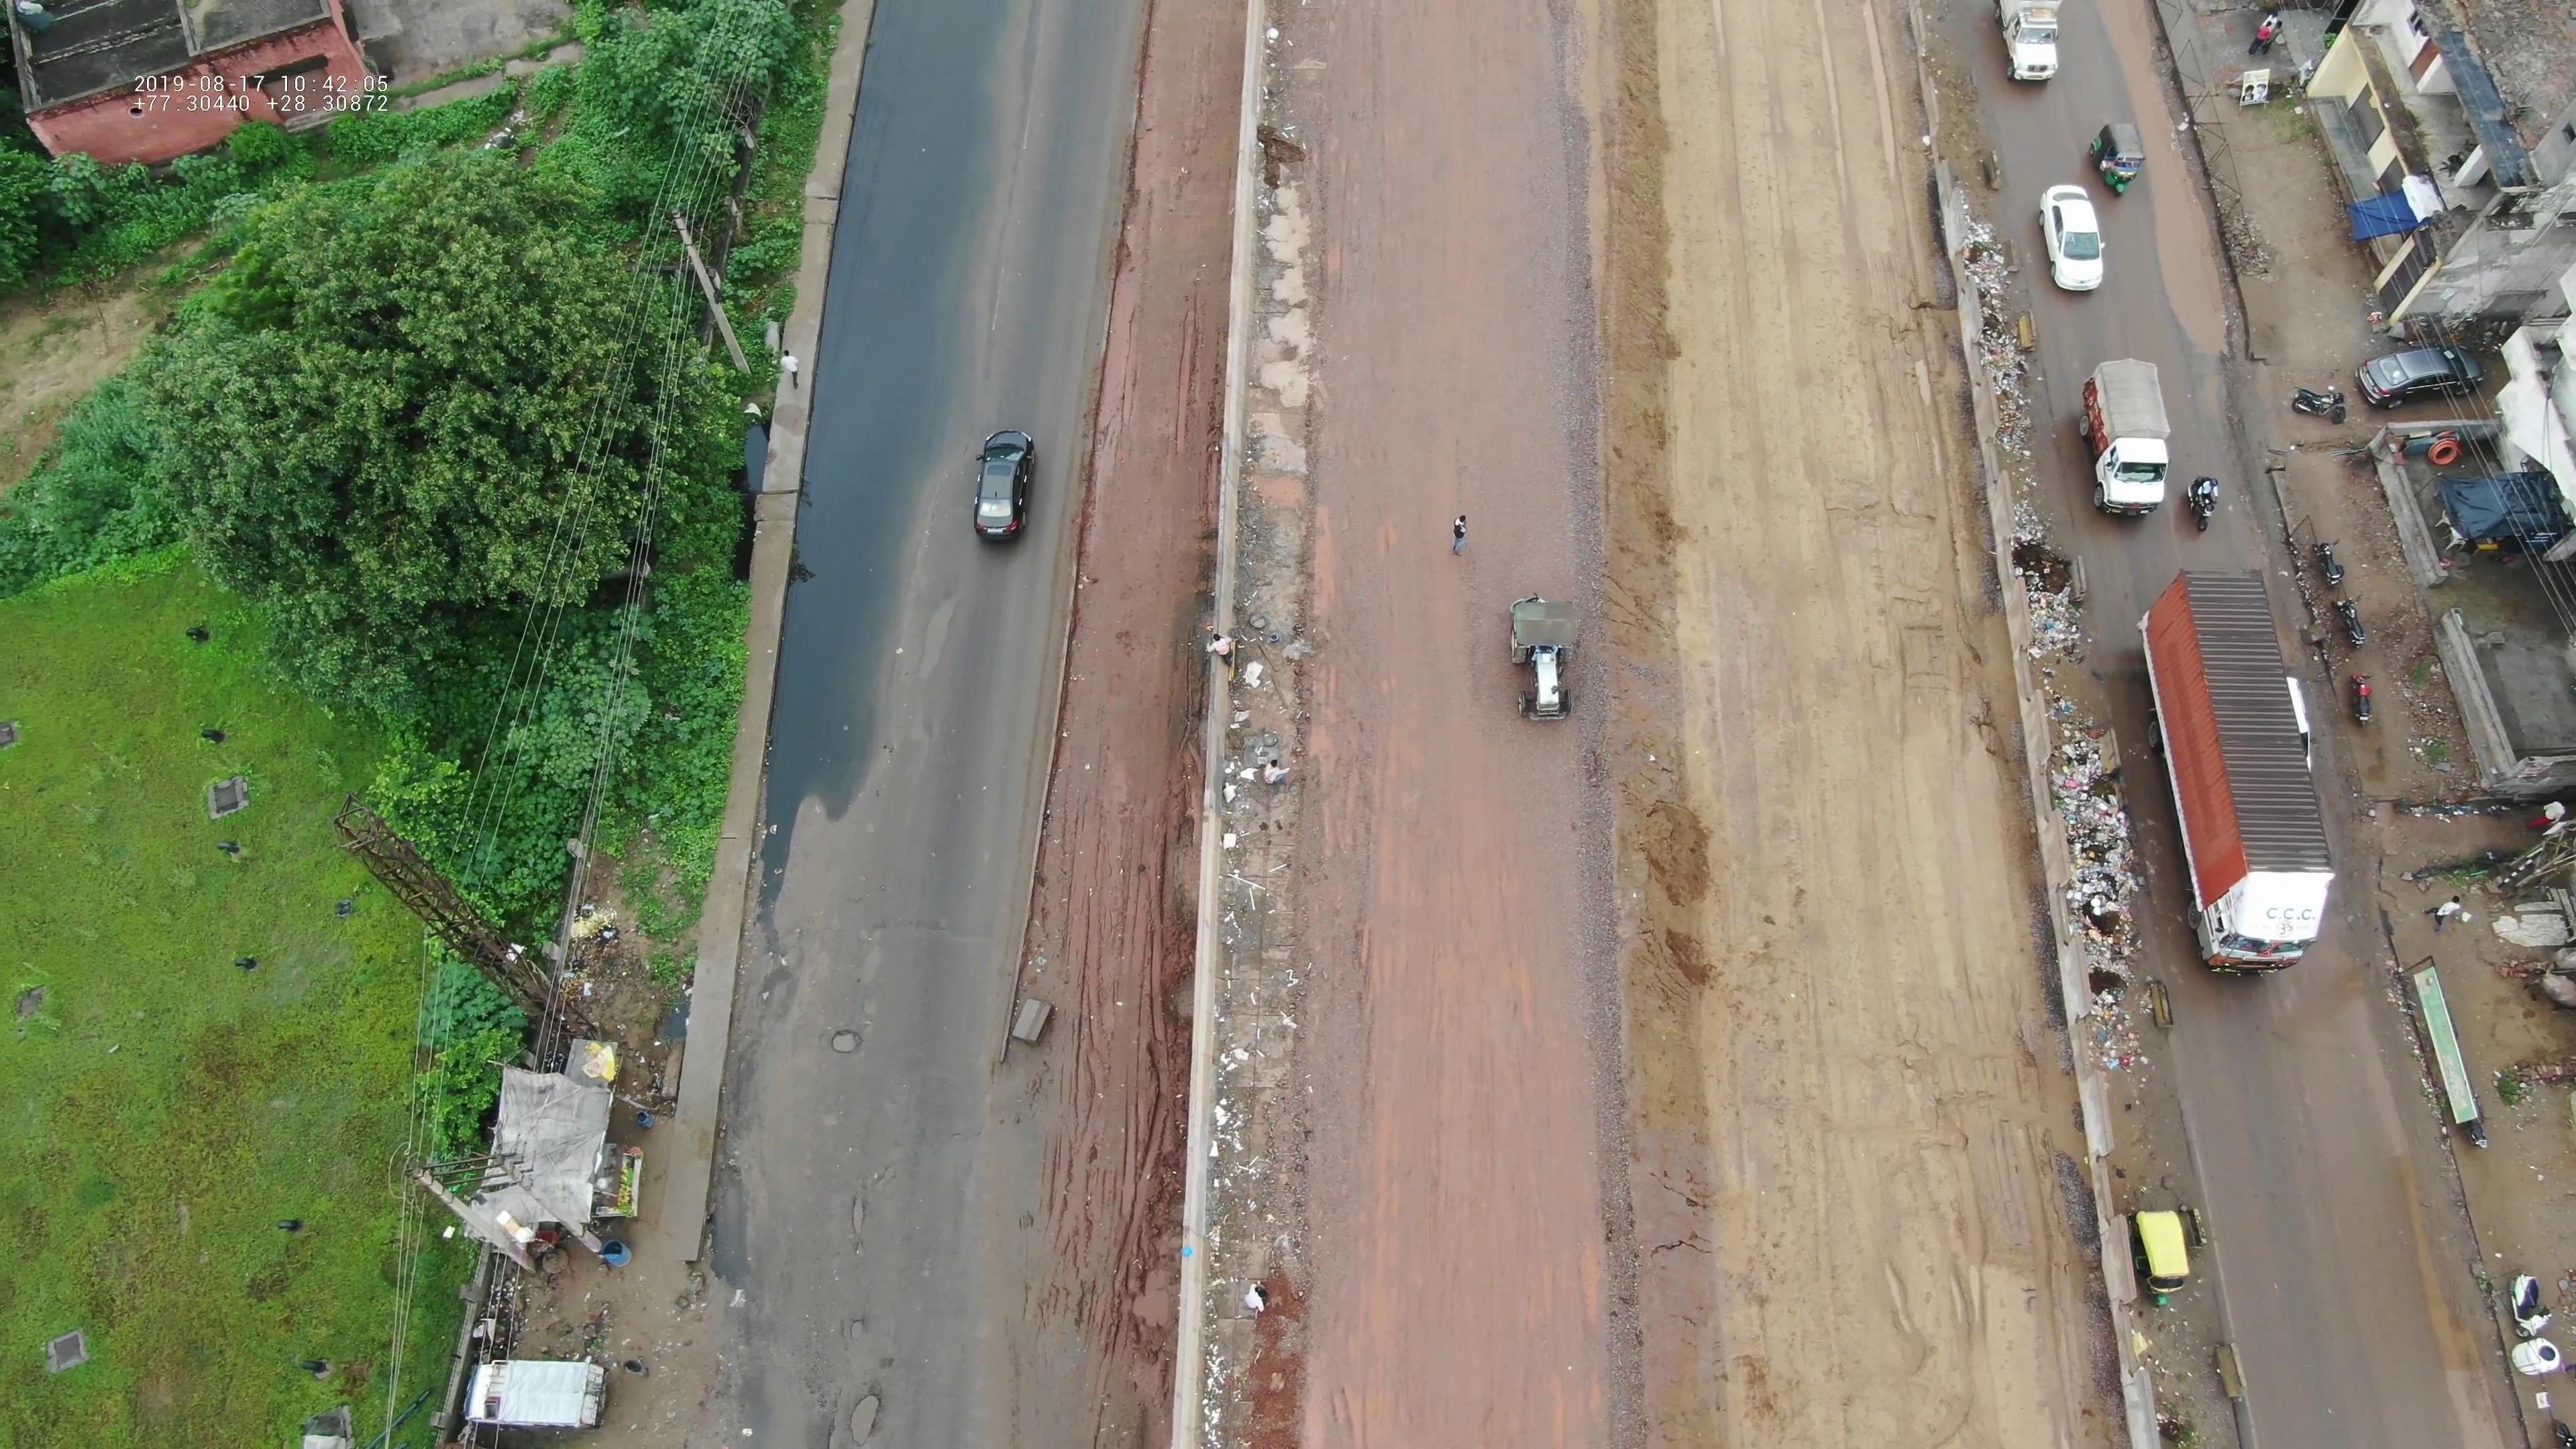Potholes: (803, 1293, 899, 1447), (892, 582, 970, 708), (791, 991, 872, 1076), (835, 1162, 888, 1277)
